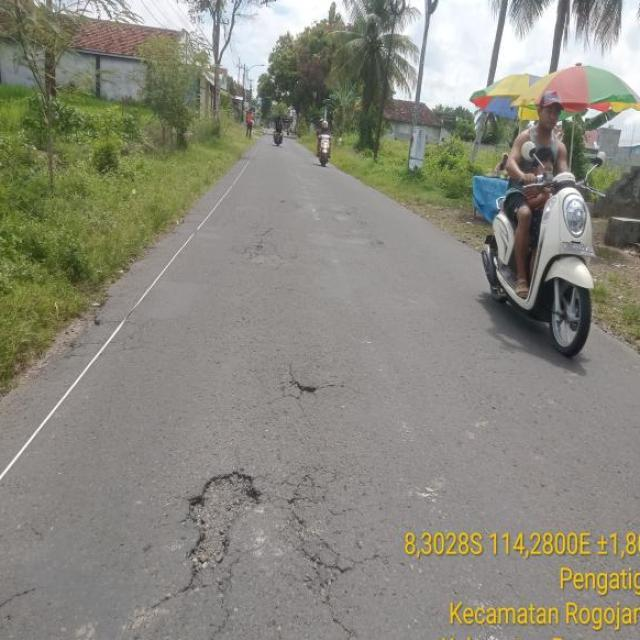Lubang: (188, 477, 264, 583)
